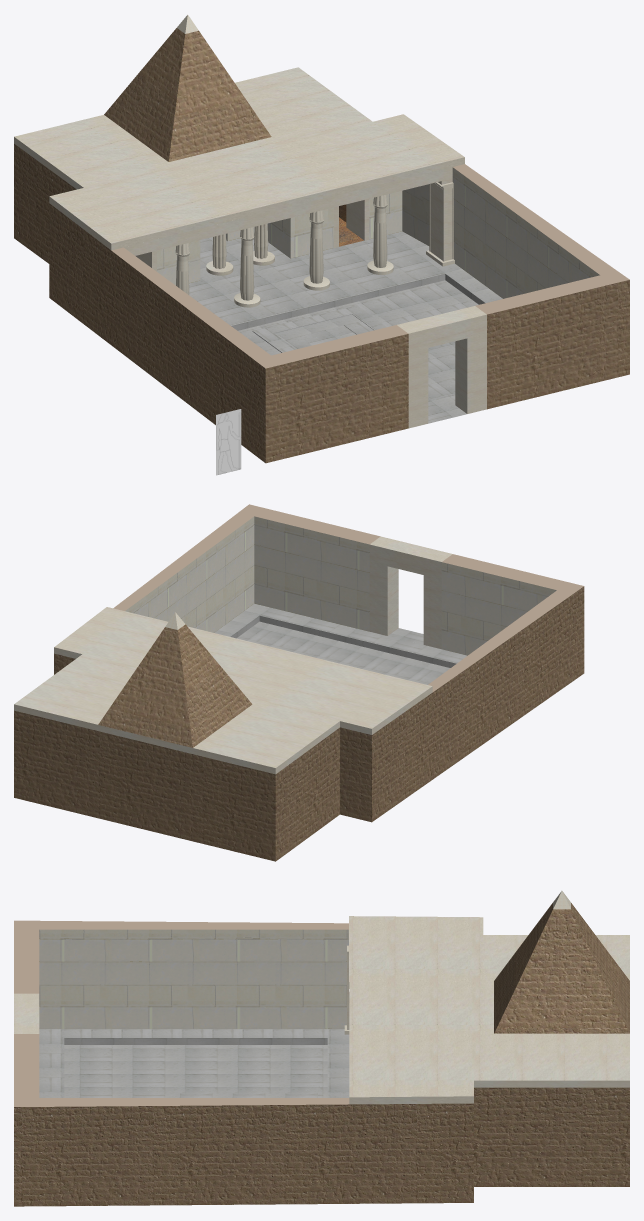
The model's file is Amenemone_18.glb.
3 renders of one model, top to bottom at view 1: azimuth 30°, elevation 25°; view 2: azimuth 150°, elevation 25°; view 3: azimuth 270°, elevation 25°, orthographic. The views are drawn at different scales.
Visible parts, largest first — view 1: Mesh15 Model, Mesh17 Model, Mesh13 Component_13_4 Model, Mesh7 Component_13_3 Model, Mesh5 Component_13_2 Model; view 2: Mesh15 Model; view 3: Mesh15 Model.
Part boxes in pixels (box(x1,y1,x2,y2)): Mesh15 Model: box(14, 14, 629, 463); Mesh17 Model: box(216, 409, 241, 475); Mesh13 Component_13_4 Model: box(309, 210, 323, 283); Mesh7 Component_13_3 Model: box(373, 194, 387, 267); Mesh5 Component_13_2 Model: box(240, 227, 254, 300); Mesh15 Model: box(14, 504, 584, 861); Mesh15 Model: box(14, 891, 629, 1206).
Bounding box in the file's own units: 11.43 × 5.8 × 14.04.
Materials: 11 (9 with a texture image).
